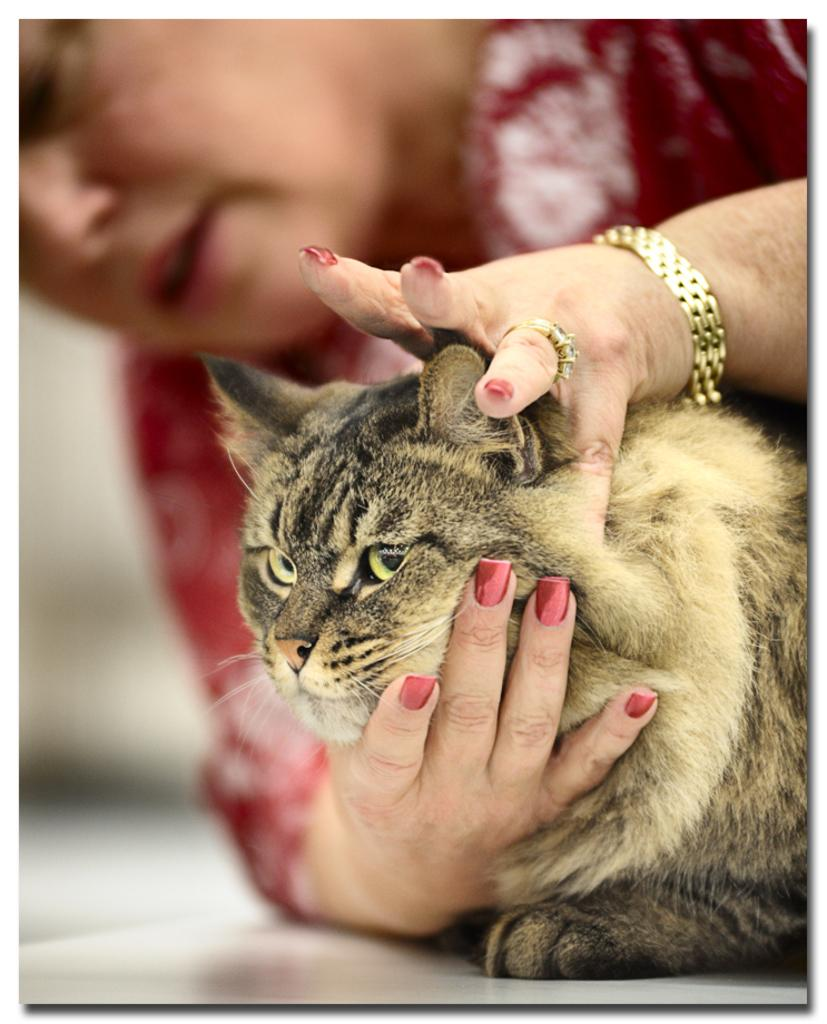Sem Máscara: (17, 15, 376, 342)
